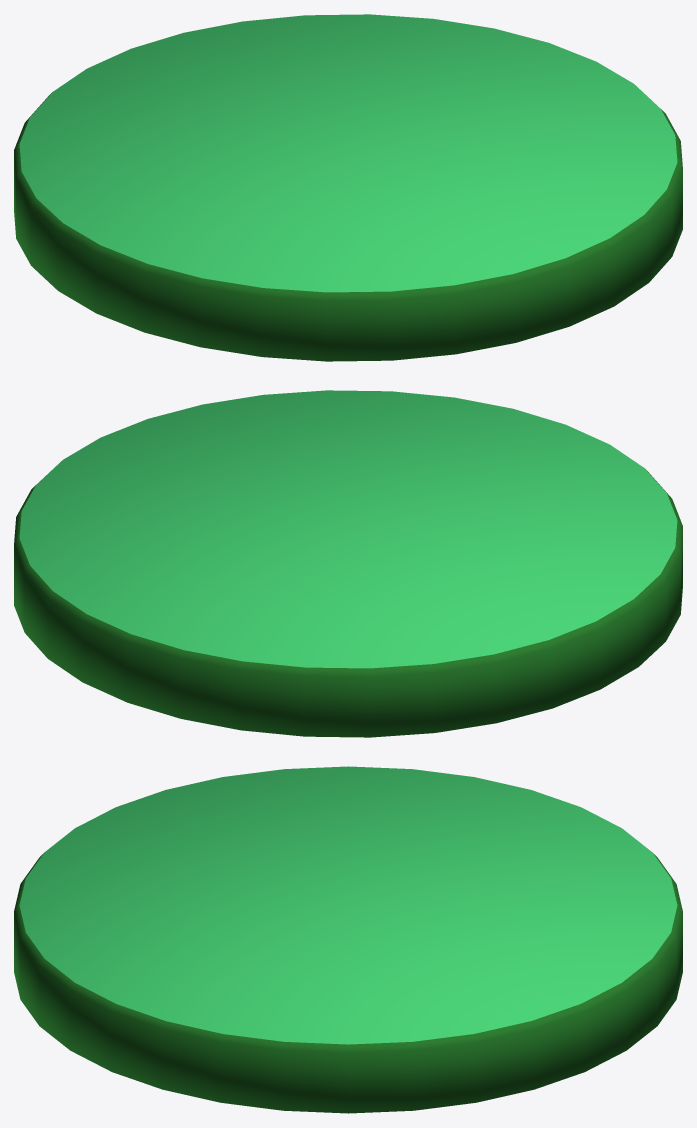
The model's file is ground.dae.
3 views of the same model, one above another, from view 1: azimuth 30°, elevation 25°; view 2: azimuth 150°, elevation 25°; view 3: azimuth 270°, elevation 25° (orthographic).
Visible parts, largest first — view 1: Cylinder; view 2: Cylinder; view 3: Cylinder.
Part boxes in pixels (box(x1,y1,x2,y2)): Cylinder: box(14, 14, 682, 361); Cylinder: box(14, 390, 682, 737); Cylinder: box(14, 766, 682, 1113).
Bounding box in the file's own units: 2 × 2 × 0.2198.
